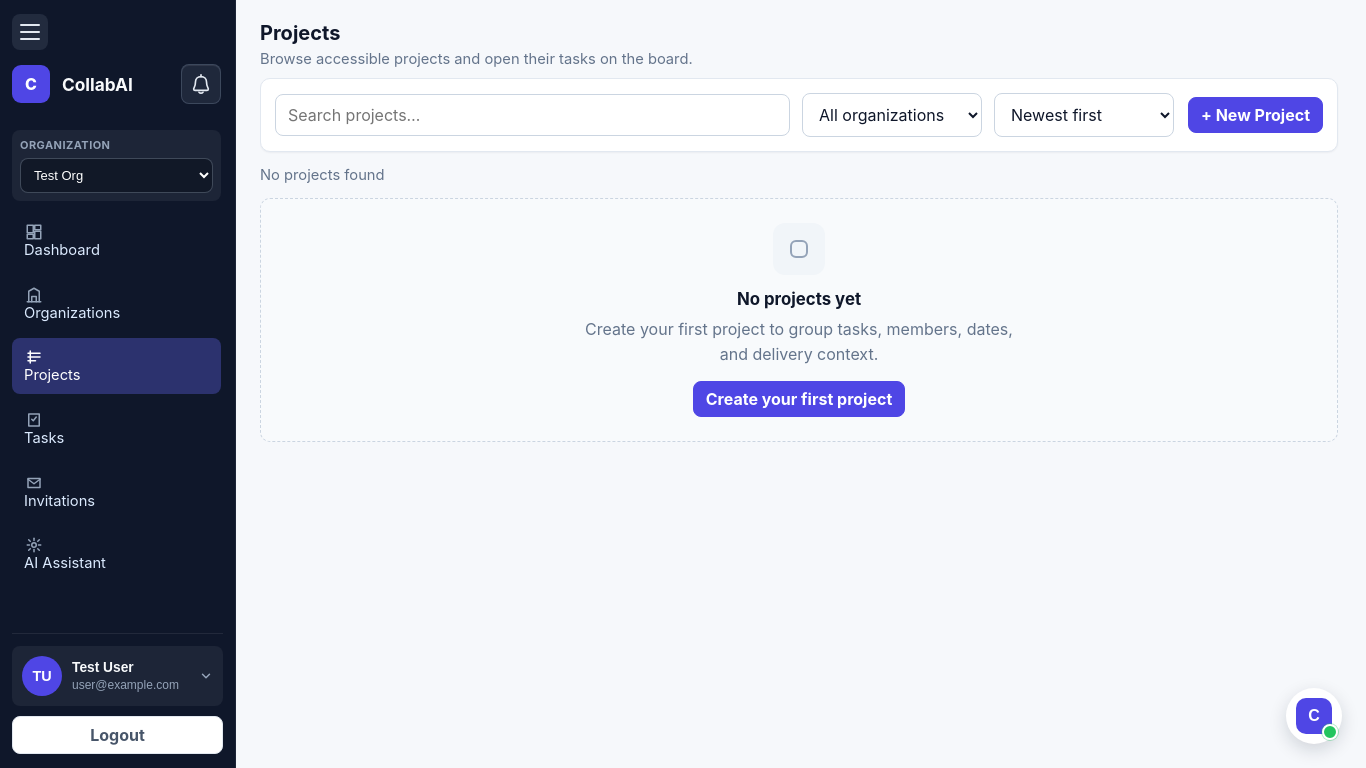
Test: Project management › creates a project
Click the button with test id "create-project-btn": (1256,115) [1188,97,1323,133]
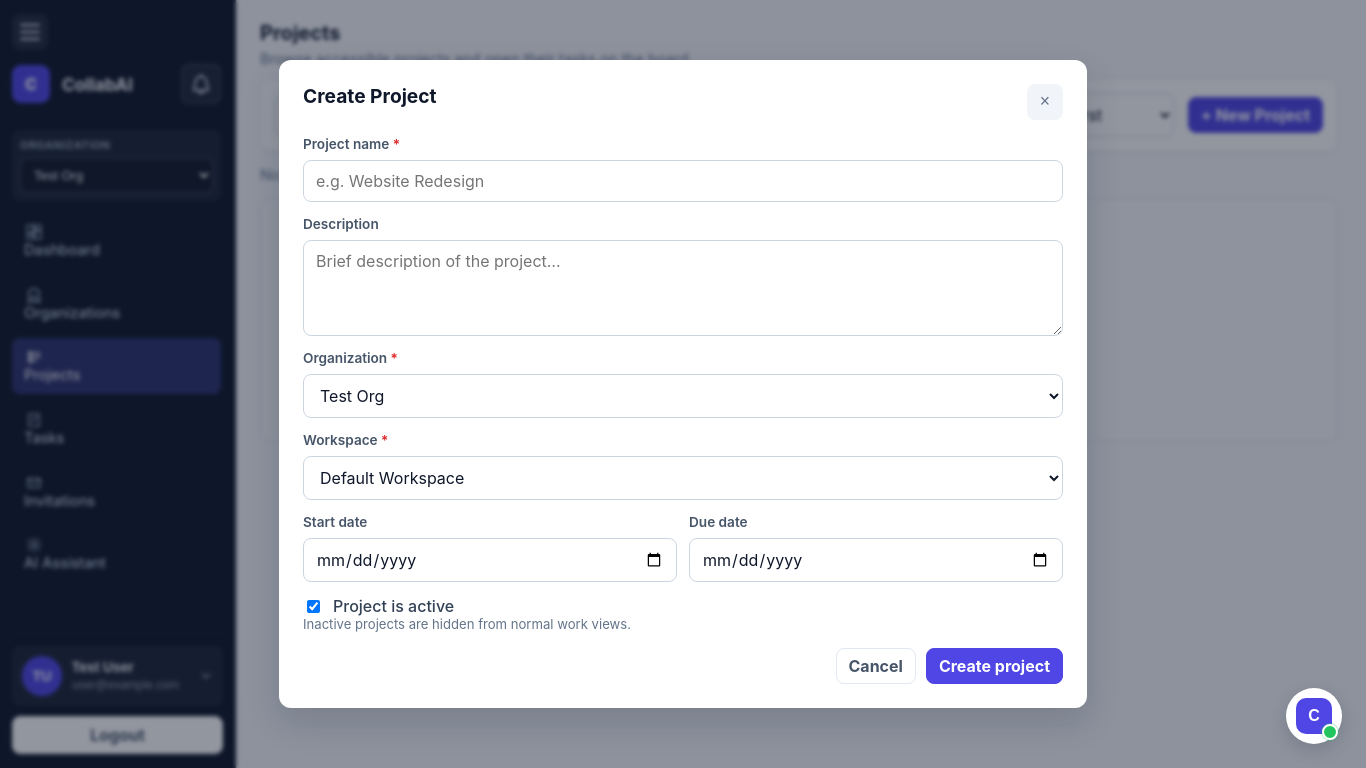
In the field named "name": (683,181) [303,160,1063,202], type "Beta Project"
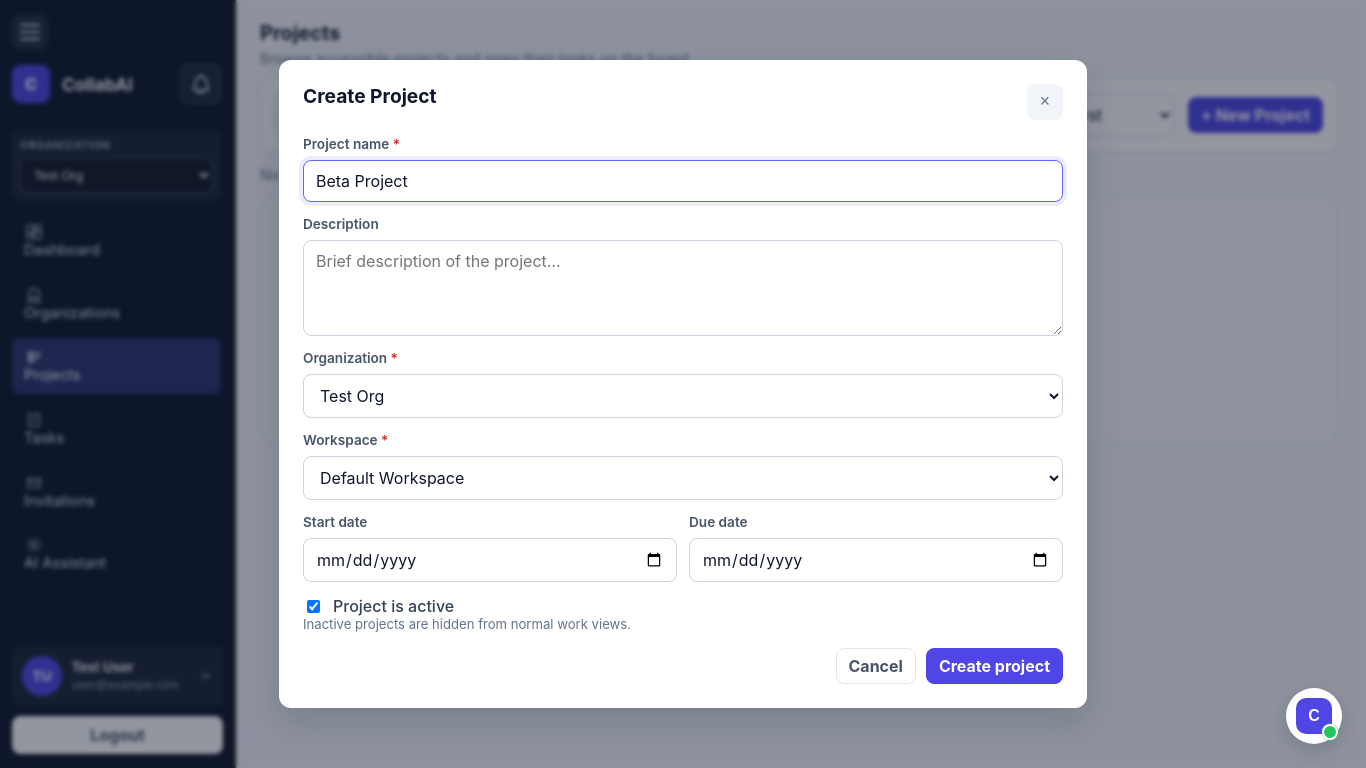
Select "Default Workspace" in the dropdown named "workspace": (683,478) [303,456,1063,500]
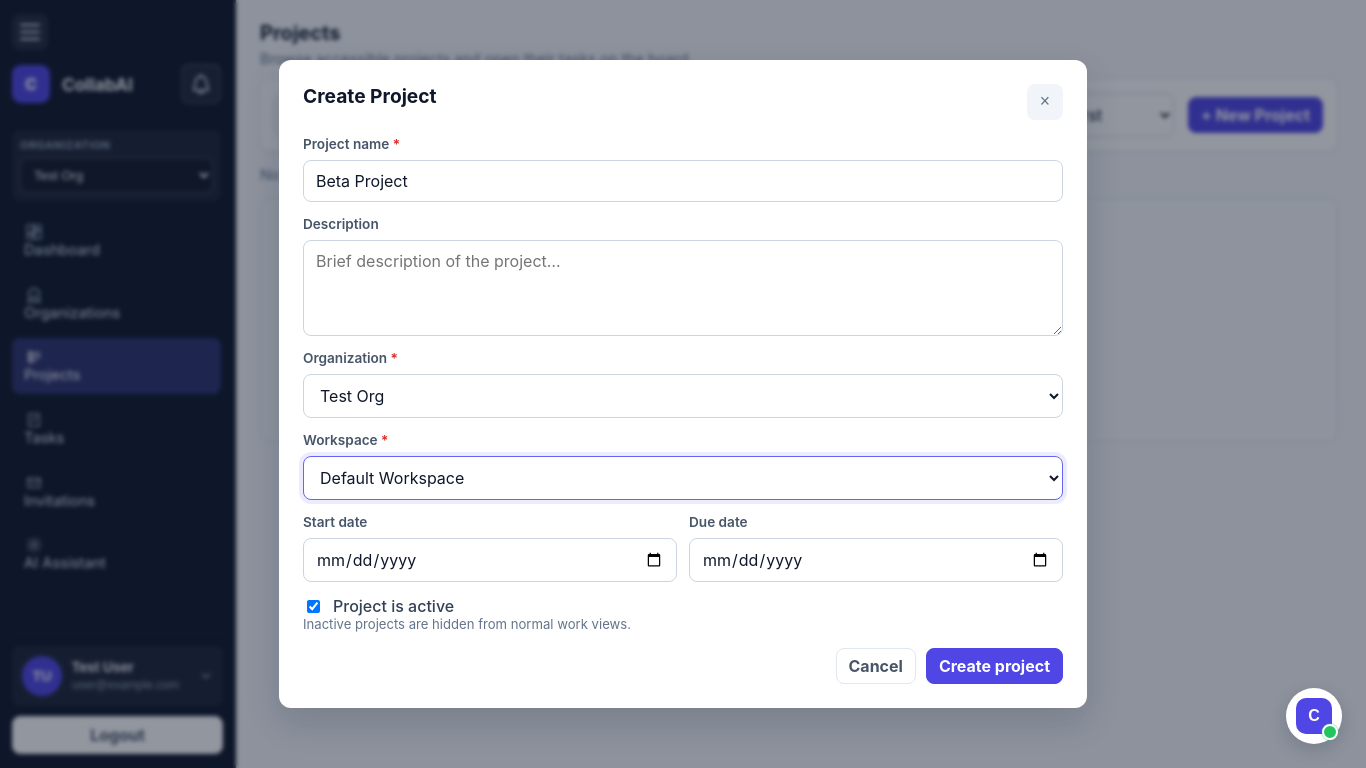
Click the button "Create project": (995,666) [926,648,1063,684]
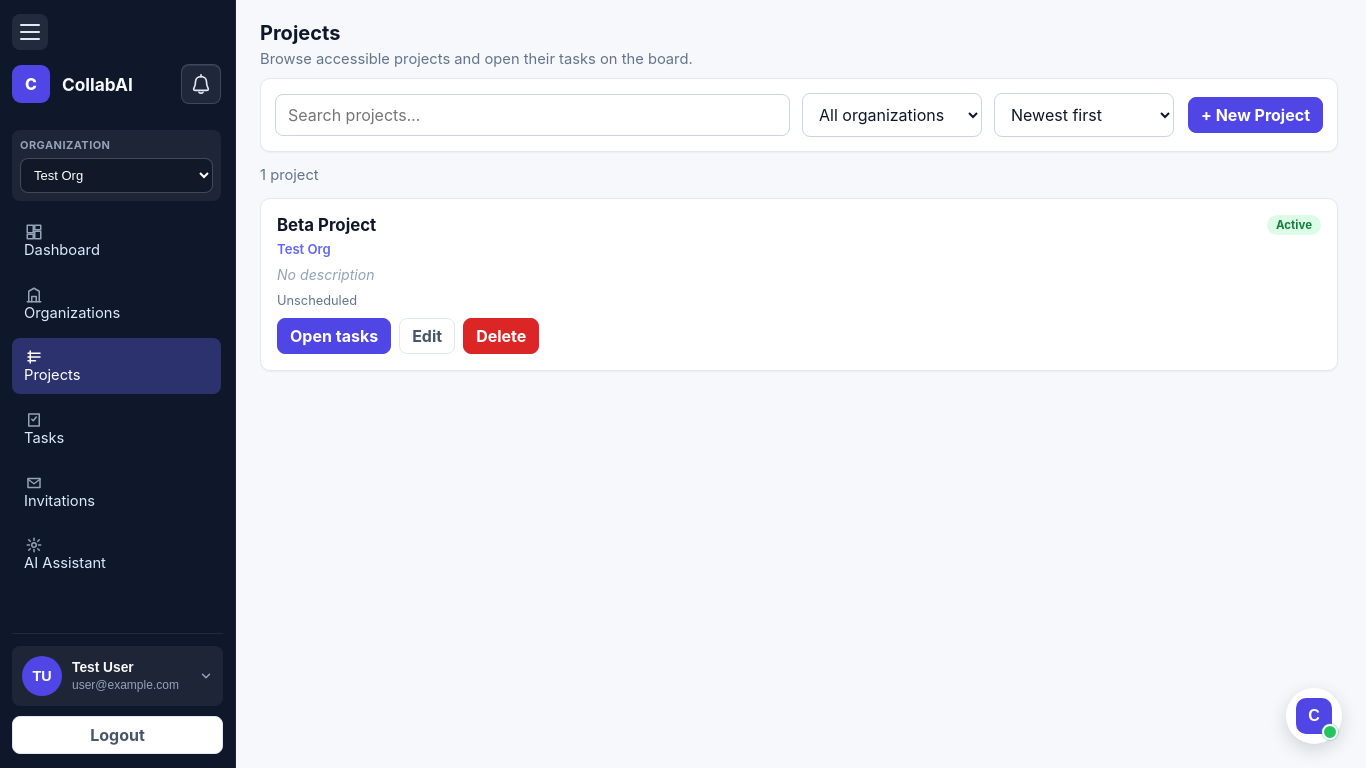
expect the heading "Beta Project" is shown: met, box [277,215,376,235]
